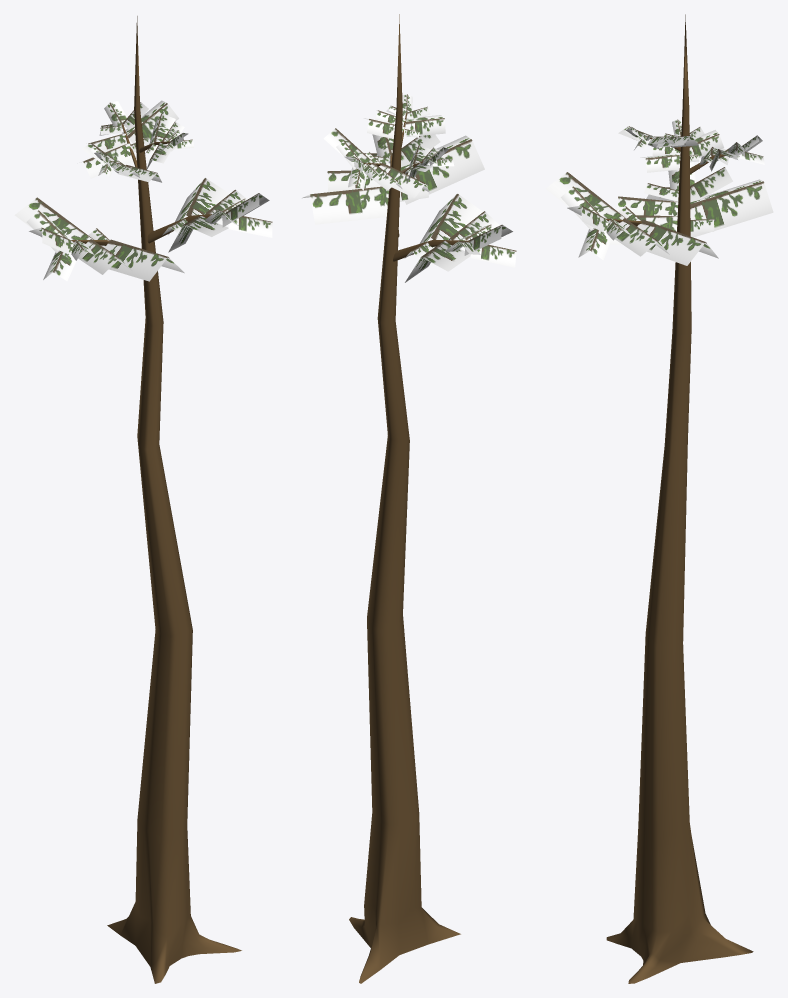
The model's file is tree_02.fbx.
3 renders of one model, left to right at view 1: azimuth 30°, elevation 25°; view 2: azimuth 150°, elevation 25°; view 3: azimuth 270°, elevation 25°, orthographic.
Visible parts, largest first — view 1: tree02_LOD0; view 2: tree02_LOD0; view 3: tree02_LOD0.
Part boxes in pixels (x1=…): tree02_LOD0: x1=14, y1=16, x2=272, y2=983; tree02_LOD0: x1=302, y1=14, x2=516, y2=983; tree02_LOD0: x1=545, y1=14, x2=773, y2=983.
Size of what is drawn, in the model's own units: 912 by 4061 by 898.
